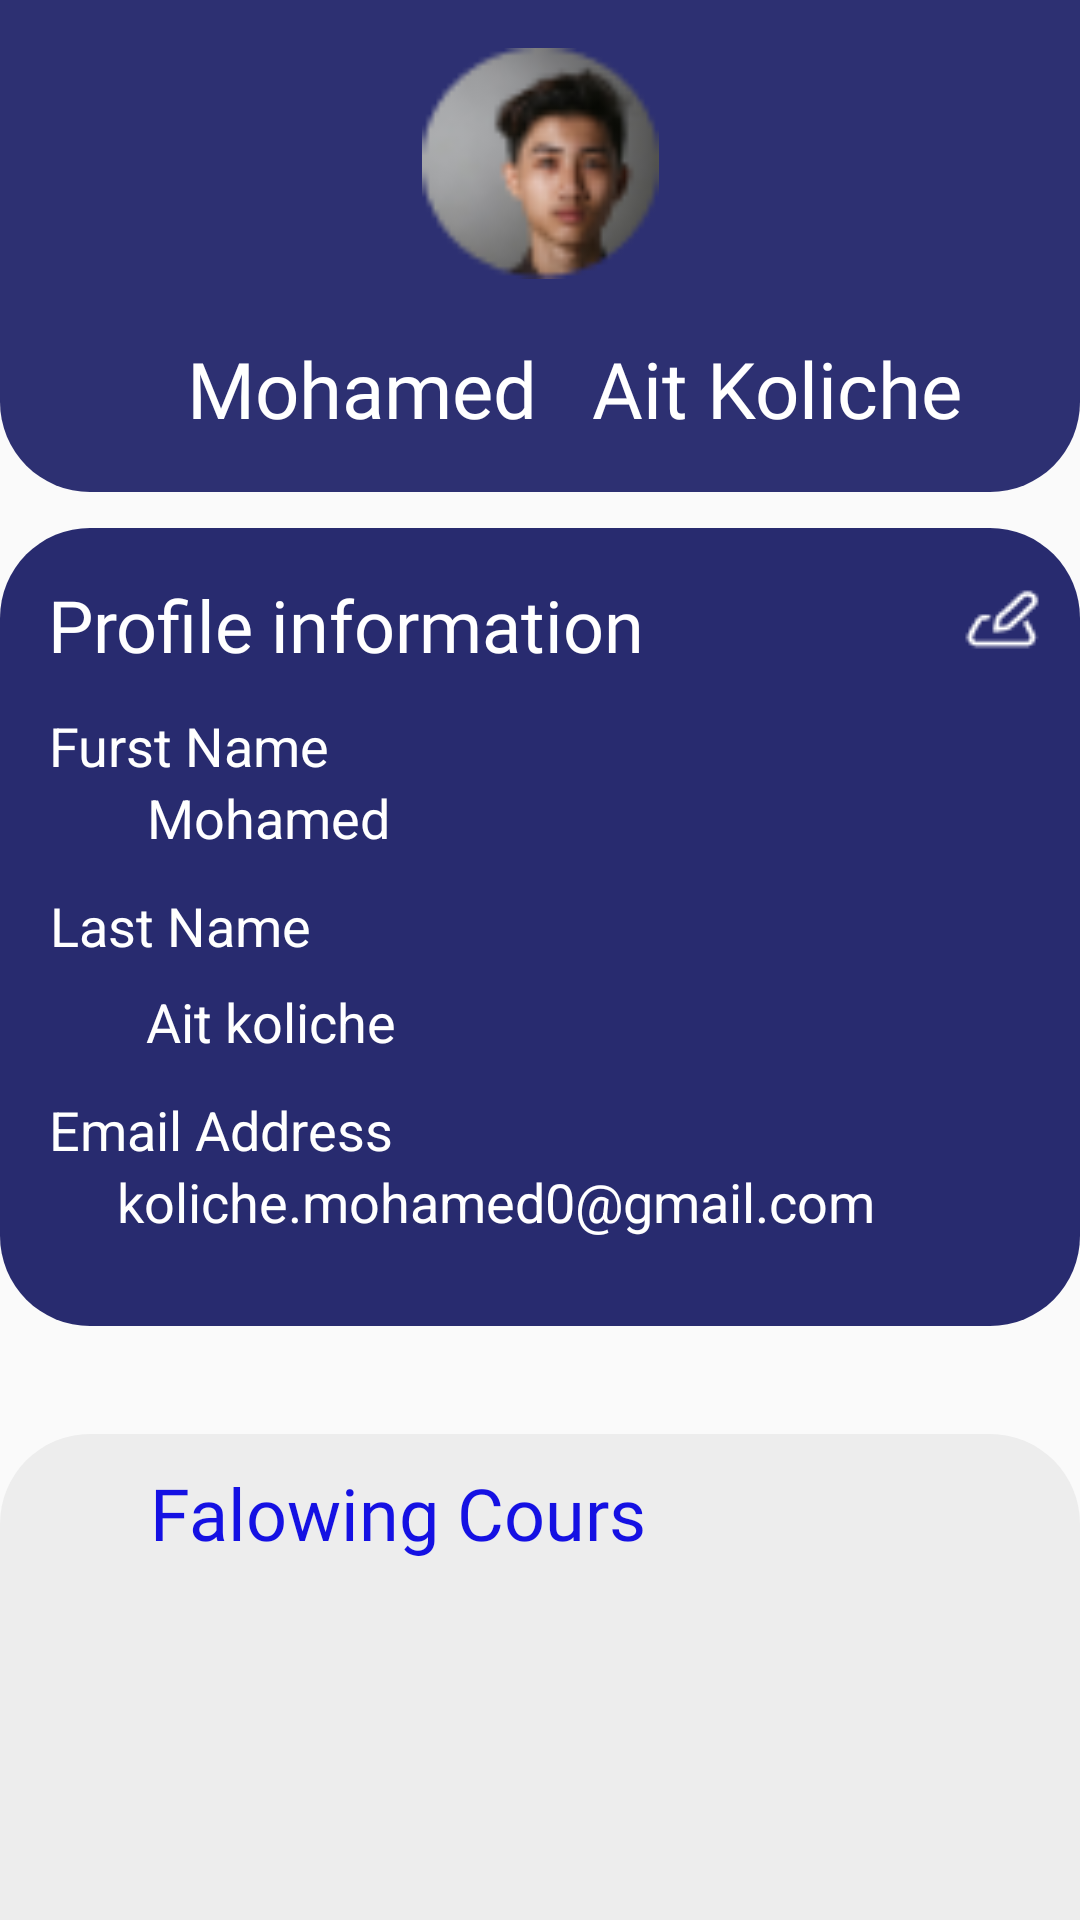

Point at icon controls on the screen. Image size 1080w x 1920h, points as [x,y].
edit: [1002,619]
profiel: [540,163]
